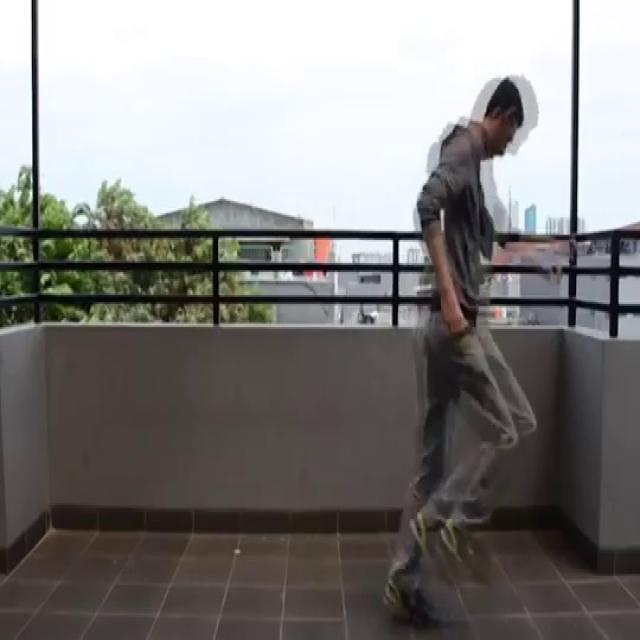normal: (391, 67, 541, 618)
